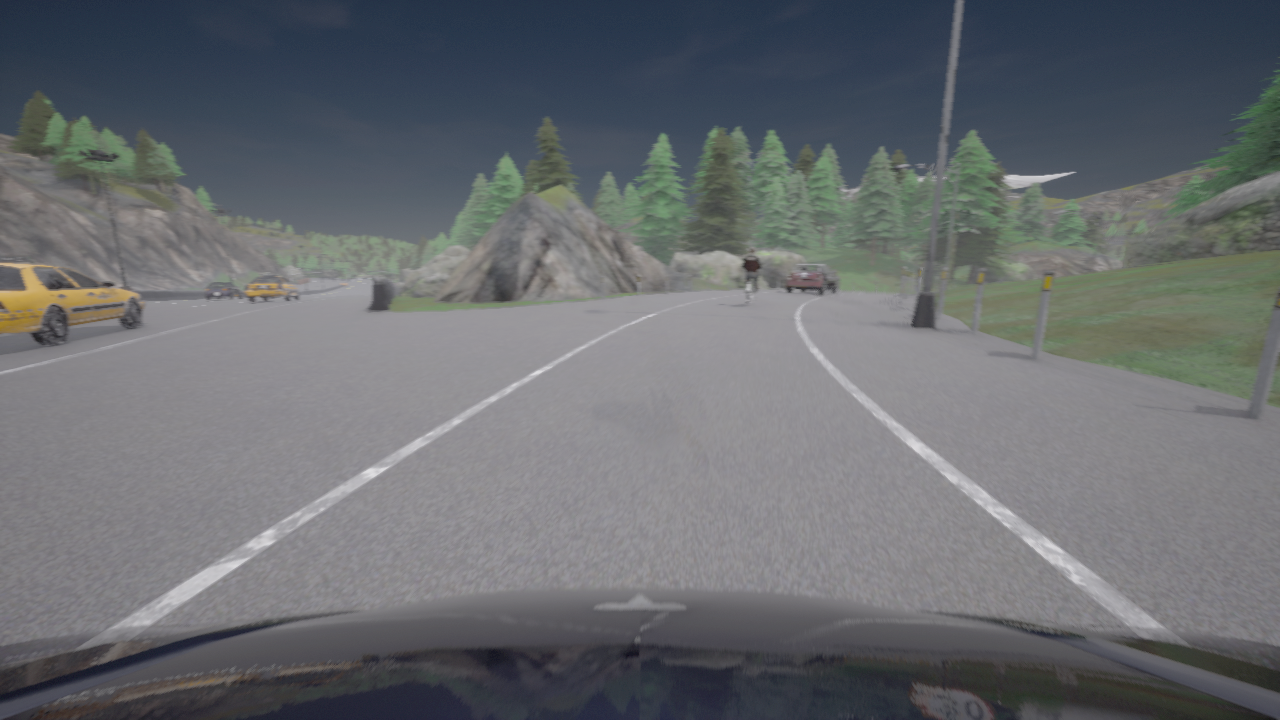cyclist: (0, 588, 1279, 719), (785, 264, 838, 294), (245, 273, 299, 302), (205, 282, 242, 300), (745, 279, 757, 306), (270, 296, 293, 298)
